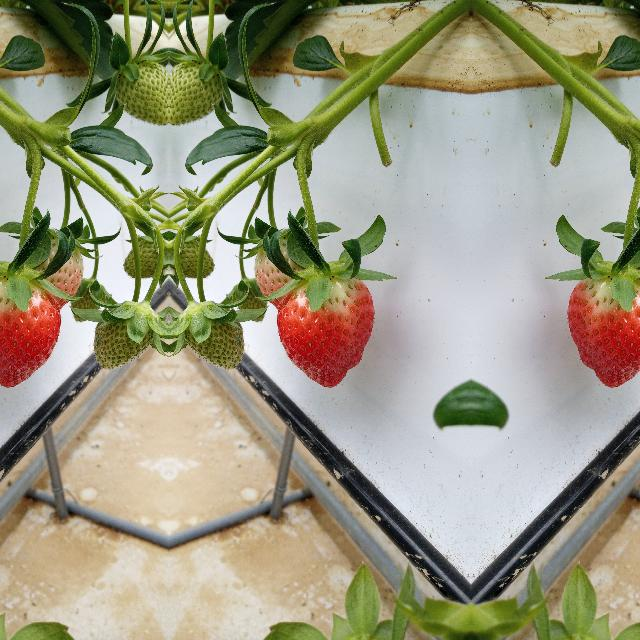Health_100: (276, 274, 374, 388), (567, 274, 640, 388), (0, 274, 60, 388)
Health_25: (170, 48, 220, 136), (116, 48, 166, 136), (180, 307, 248, 367), (88, 307, 156, 367), (176, 230, 218, 282), (119, 230, 160, 282)
